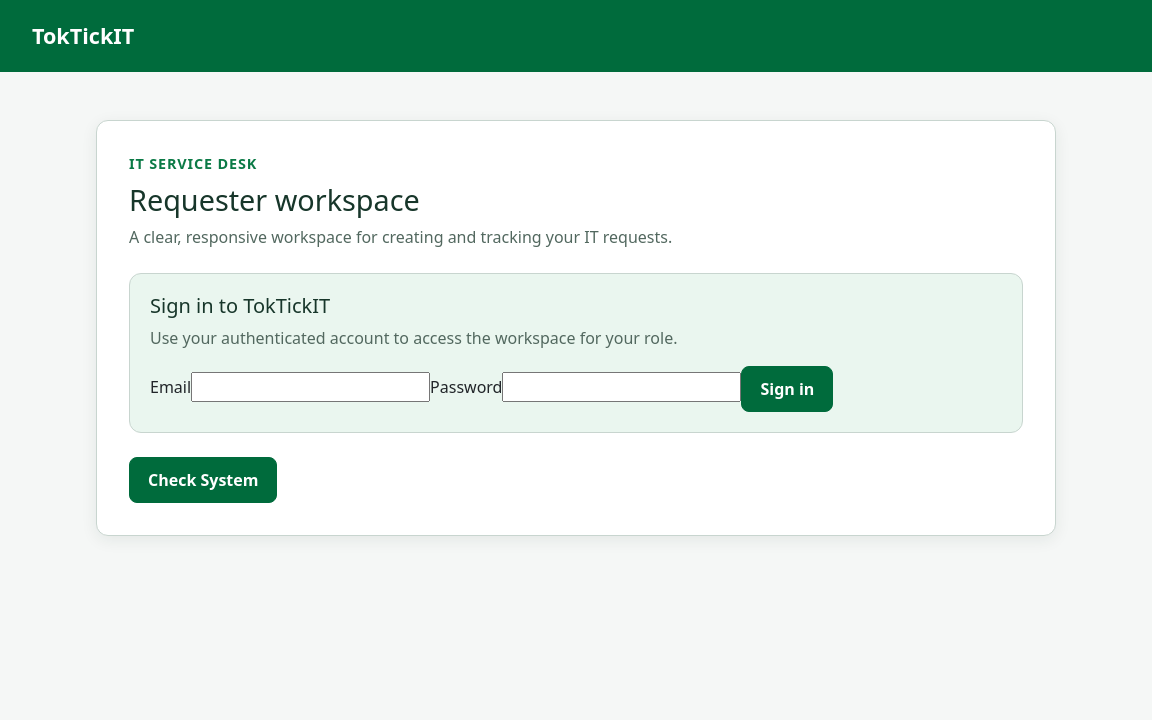
Test: App › shows Online and the seeded categories on success
Click the button "Check System".
click(203, 480)  # box [129,457,278,503]
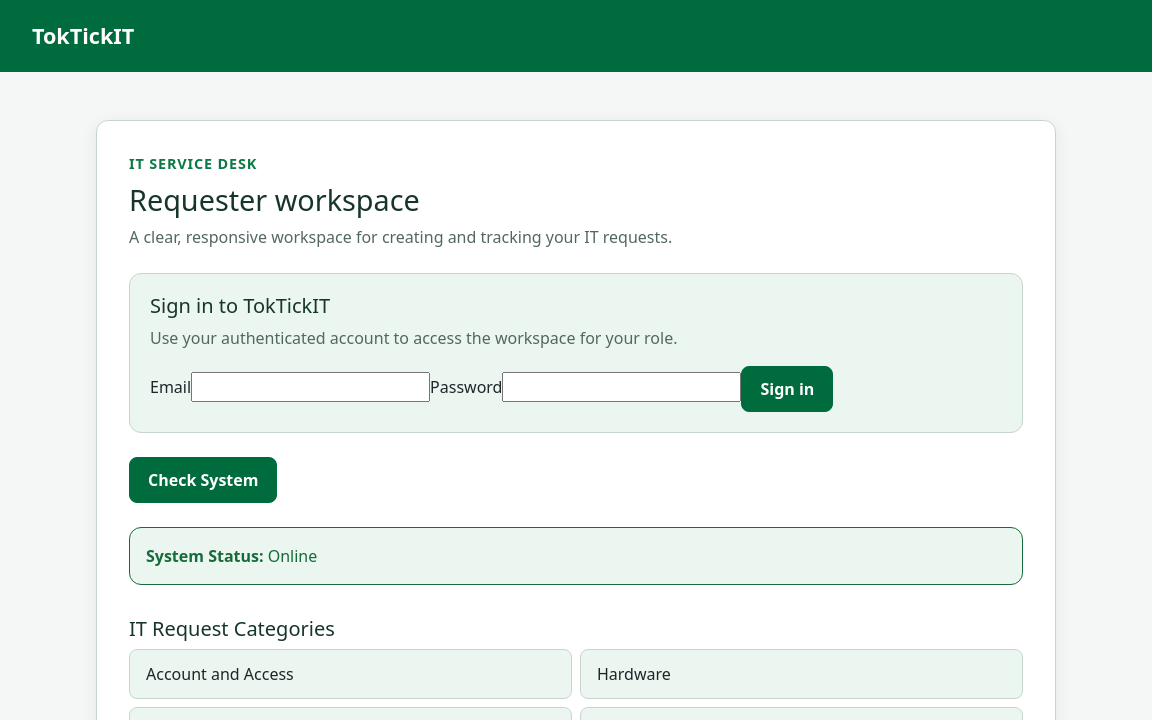
Now the text "Online" is shown, box [264,545,317,567]
Now the heading "IT Request Categories" is shown, box [129,615,335,642]
